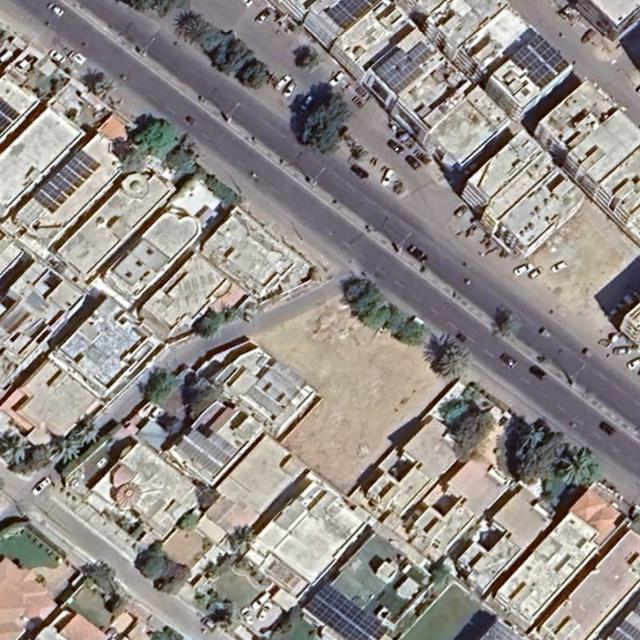solar panel: (303, 582, 388, 639), (374, 41, 437, 94), (510, 45, 559, 90), (528, 34, 570, 74), (177, 440, 223, 476), (185, 430, 231, 465), (326, 1, 373, 31), (611, 612, 639, 639), (483, 621, 521, 639), (31, 191, 60, 213), (65, 159, 95, 180), (72, 150, 102, 171), (39, 182, 68, 203), (48, 176, 77, 197), (56, 167, 85, 188), (0, 100, 19, 119), (0, 114, 12, 133)
